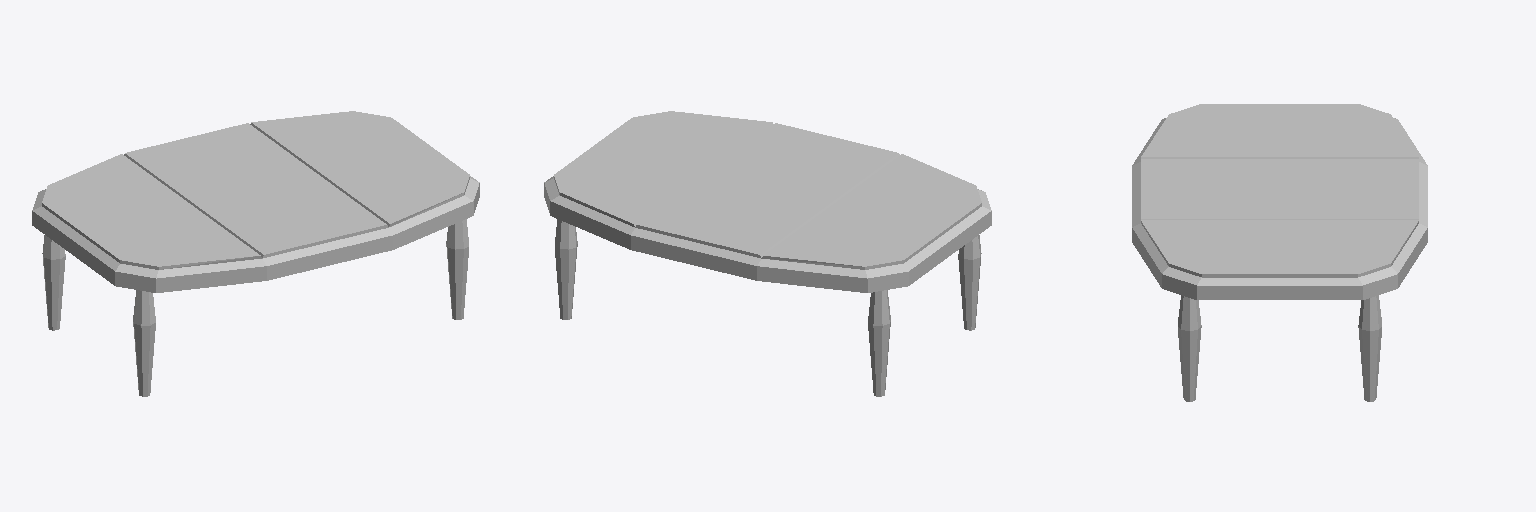
The model's file is tableTexture.obj.
3 renders of one model, left to right at view 1: azimuth 30°, elevation 25°; view 2: azimuth 150°, elevation 25°; view 3: azimuth 270°, elevation 25°, orthographic.
Visible parts, largest first — view 1: tableTop, tableTop leg4 leg1 leg3 leg2; view 2: tableTop, tableTop leg4 leg1 leg3 leg2; view 3: tableTop, tableTop leg4 leg1 leg3 leg2.
Boxes of the visible parts, <box> form: tableTop: <box>32,111,479,292</box>; tableTop leg4 leg1 leg3 leg2: <box>42,219,468,396</box>; tableTop: <box>544,111,991,292</box>; tableTop leg4 leg1 leg3 leg2: <box>555,219,981,396</box>; tableTop: <box>1132,104,1427,299</box>; tableTop leg4 leg1 leg3 leg2: <box>1178,295,1381,401</box>.
Size of the model in its own units: 4.65 by 1.64 by 3.27.